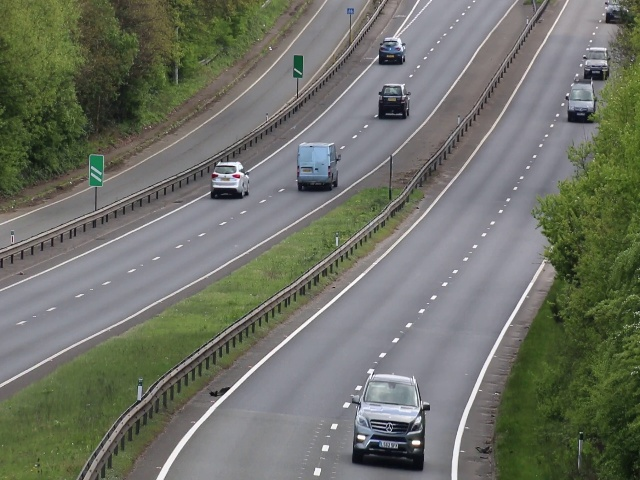car: (351, 374, 426, 471), (295, 140, 340, 191), (375, 81, 415, 122), (210, 161, 248, 198), (581, 46, 614, 79), (566, 82, 596, 118), (377, 35, 408, 63)
